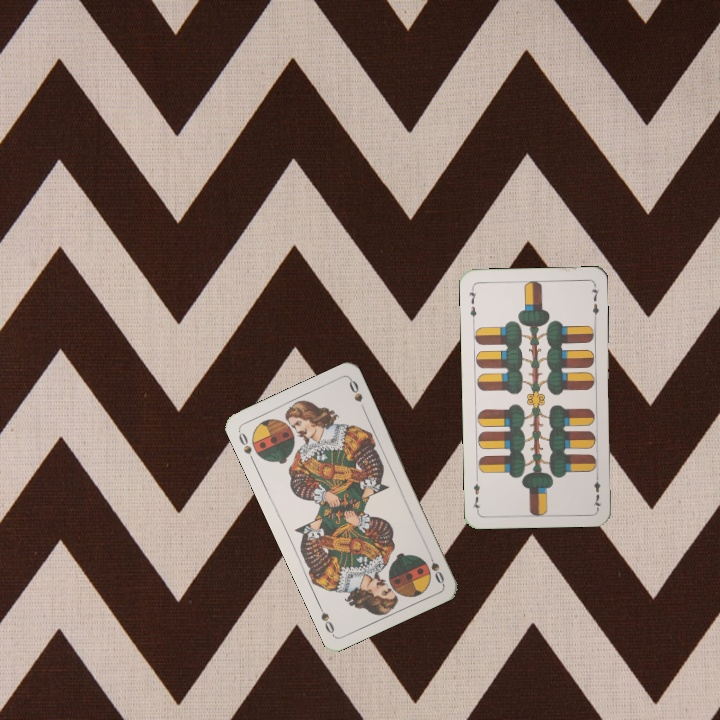E7: (465, 284, 479, 324), (590, 470, 604, 510)
SO: (424, 547, 447, 586), (234, 427, 257, 465)
